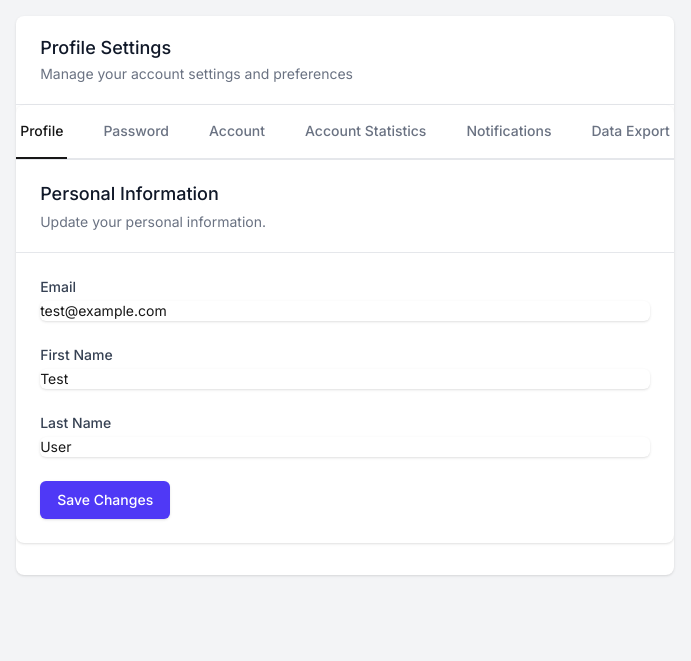
ProfilePage › shows error message when profile update fails
The image size is (691, 661).
Replace the text in the field with test id "profile-email" with "newemail@example.com" at (345, 311), box [40,301,650,321]
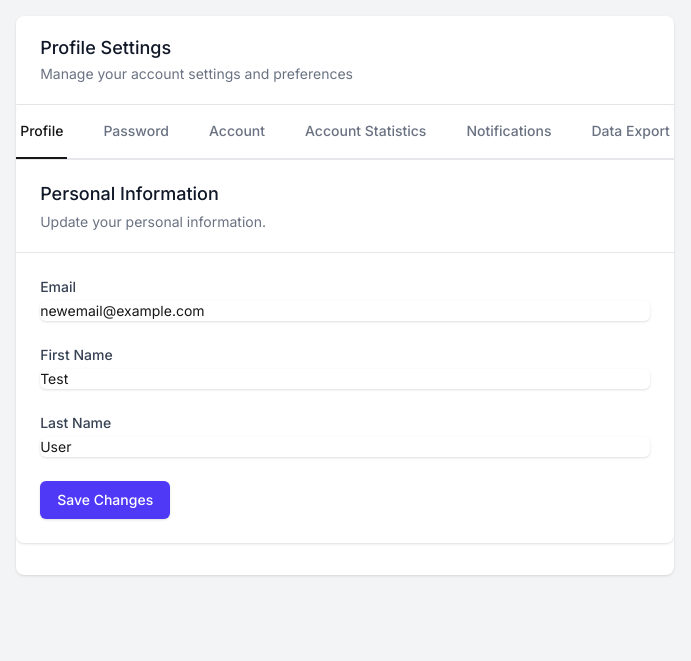
Click the button with test id "save-profile-button" at (105, 500), box [40,481,170,519]
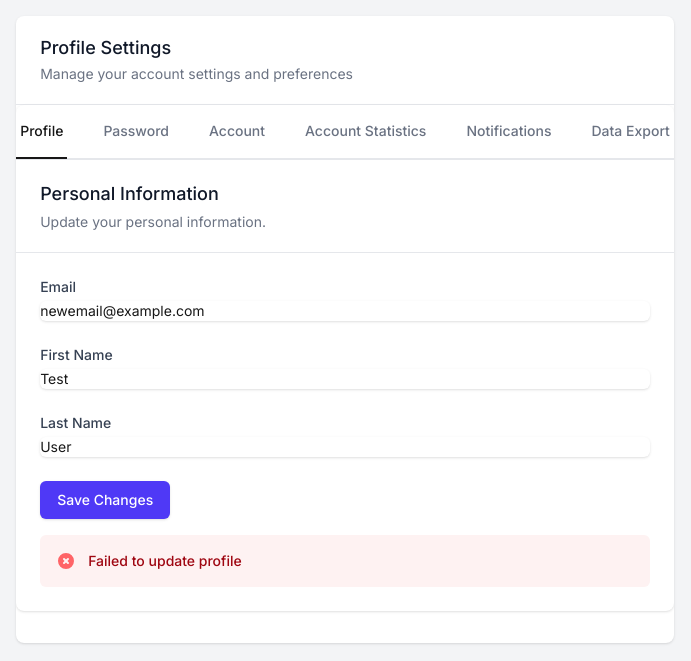
Check: the element with test id "profile-error" is shown, box [40,535,650,587]
Check: the text "Failed to update profile" is shown, box [88,551,242,571]
